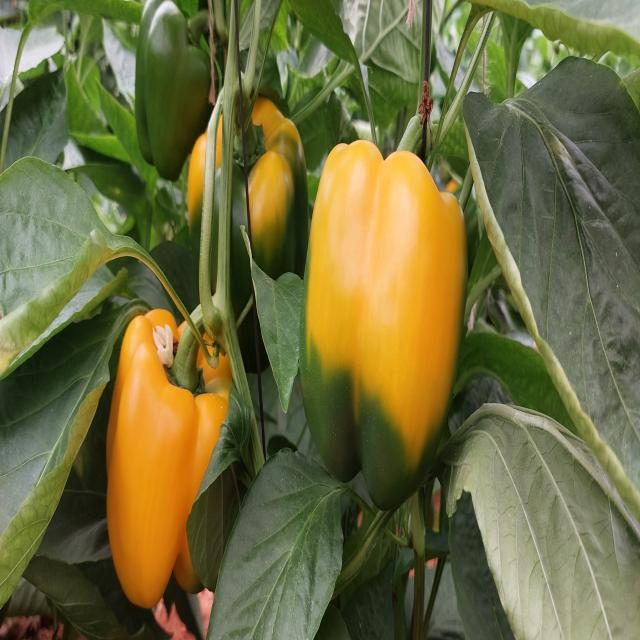Green--Not-ready-to-harvest: (136, 14, 207, 158)
GreenishYellow--Can-be-Harvested: (305, 129, 469, 521), (190, 135, 296, 295)
Yellow-Ready-to-Harvest: (104, 286, 250, 604)
